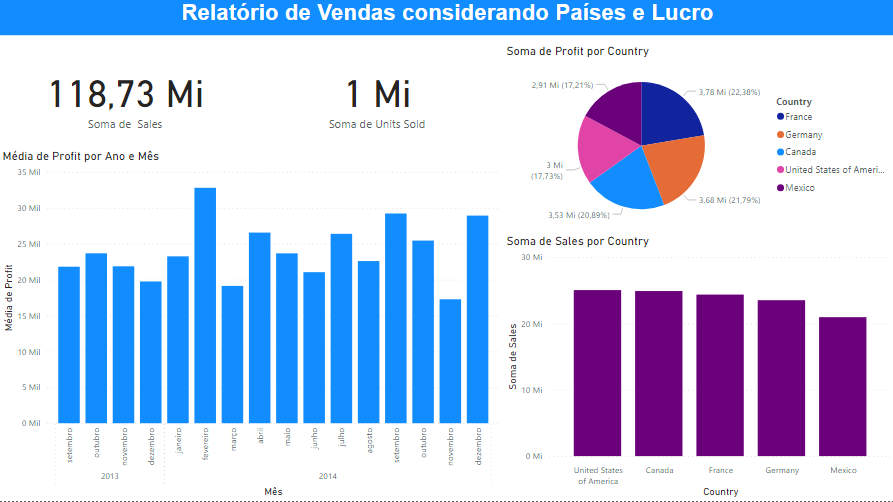

What the dashboard file says about the page in this screenshot:
{"tool":"powerbi","page":{"name":"Países Lucro","canvas":[1280,720],"ordinal":1},"visuals":[{"type":"textbox","box":[0,0,1280,55.7],"z":0},{"type":"card","fields":{"Values":["Sum(financials. Sales)"]},"box":[0,68.5,359.6,149.8],"z":1000},{"type":"card","fields":{"Values":["Sum(financials.Units Sold)"]},"box":[359.6,68.5,359.6,149.8],"z":2000},{"type":"pieChart","fields":{"Category":["financials.Country"],"Y":["Sum(financials.Profit)"]},"box":[719.2,68.5,560.8,271.1],"z":3000},{"type":"clusteredColumnChart","fields":{"Category":["financials.Date.Variation.Hierarquia de datas.Ano","financials.Date.Variation.Hierarquia de datas.Mês"],"Y":["Avg(financials.Profit)"]},"box":[0,218.3,719.2,502.3],"z":4000},{"type":"clusteredColumnChart","fields":{"Category":["financials.Country"],"Y":["Sum(financials. Sales)"]},"box":[719,339,561,381],"z":5000}]}

Visuals, with their boxes in screenshot pixels (x1, y1, x2, y2), scaled from the page's 1280x720 canvas onto the 893x502 screenshot:
textbox: 0/0/892/39
card - Sum(financials. Sales): 0/48/251/152
card - Sum(financials.Units Sold): 251/48/502/152
pieChart - financials.Country x Sum(financials.Profit): 502/48/892/237
clusteredColumnChart - financials.Date.Variation.Hierarquia de datas.Ano x financials.Date.Variation.Hierarquia de datas.Mês: 0/152/502/501
clusteredColumnChart - financials.Country x Sum(financials. Sales): 502/236/892/501
